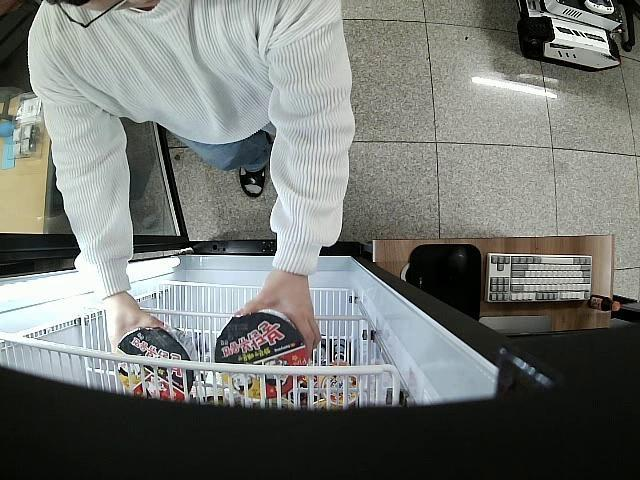07_buldak_L: (216, 312, 306, 397), (115, 326, 198, 401)
